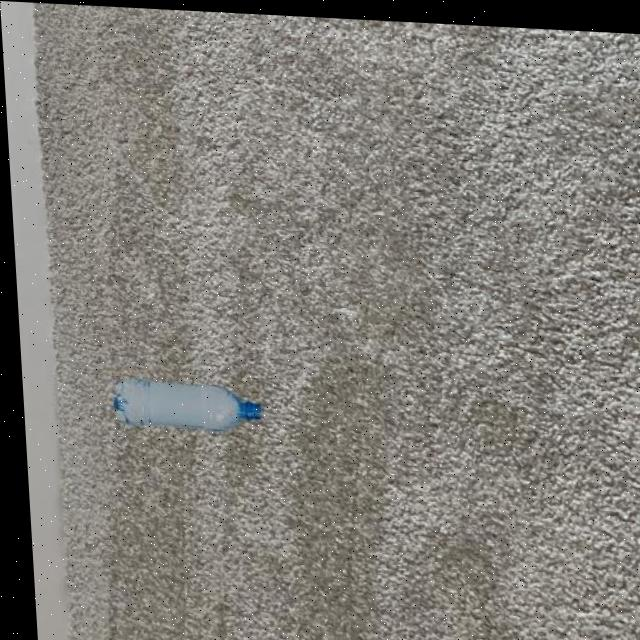bottle: (105, 374, 258, 434)
